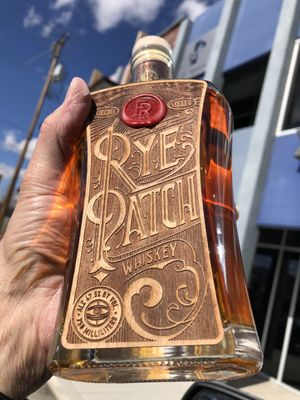pizza: (0, 73, 295, 398)
